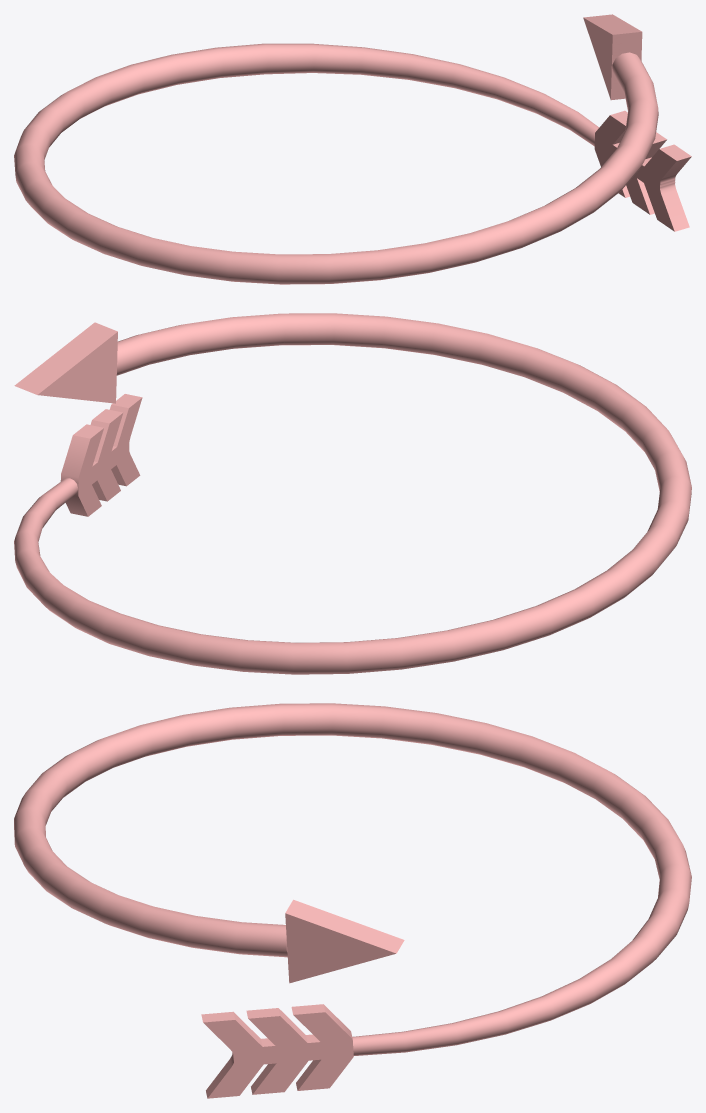
Rendered from 3-pink.gltf.
3 views of the same model, one above another, from view 1: azimuth 30°, elevation 25°; view 2: azimuth 150°, elevation 25°; view 3: azimuth 270°, elevation 25° (orthographic). The views are drawn at different scales.
Parts seen in each view (by area): view 1: Helix001, Line002, Line001; view 2: Helix001, Line002, Line001; view 3: Helix001, Line002, Line001.
Boxes of the visible parts, x1,y1,x2,y2 form: Helix001: [14, 43, 658, 284]; Line002: [594, 110, 691, 231]; Line001: [583, 14, 642, 100]; Helix001: [14, 313, 691, 674]; Line002: [60, 394, 142, 516]; Line001: [14, 322, 117, 403]; Helix001: [14, 703, 691, 1055]; Line002: [201, 1004, 353, 1098]; Line001: [285, 899, 404, 983].
Size of the model in its own units: 21.65 by 6.16 by 20.96.
